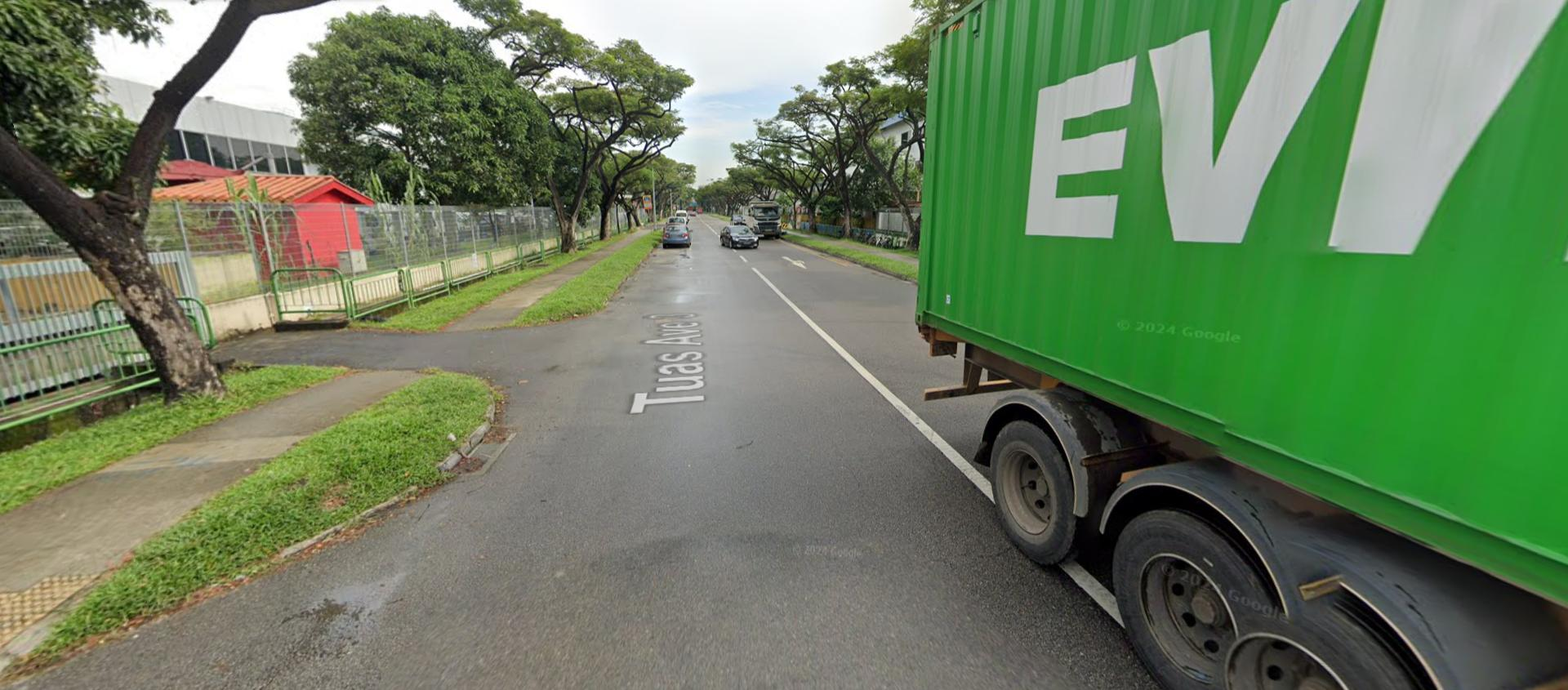normal: (461, 427, 513, 471)
